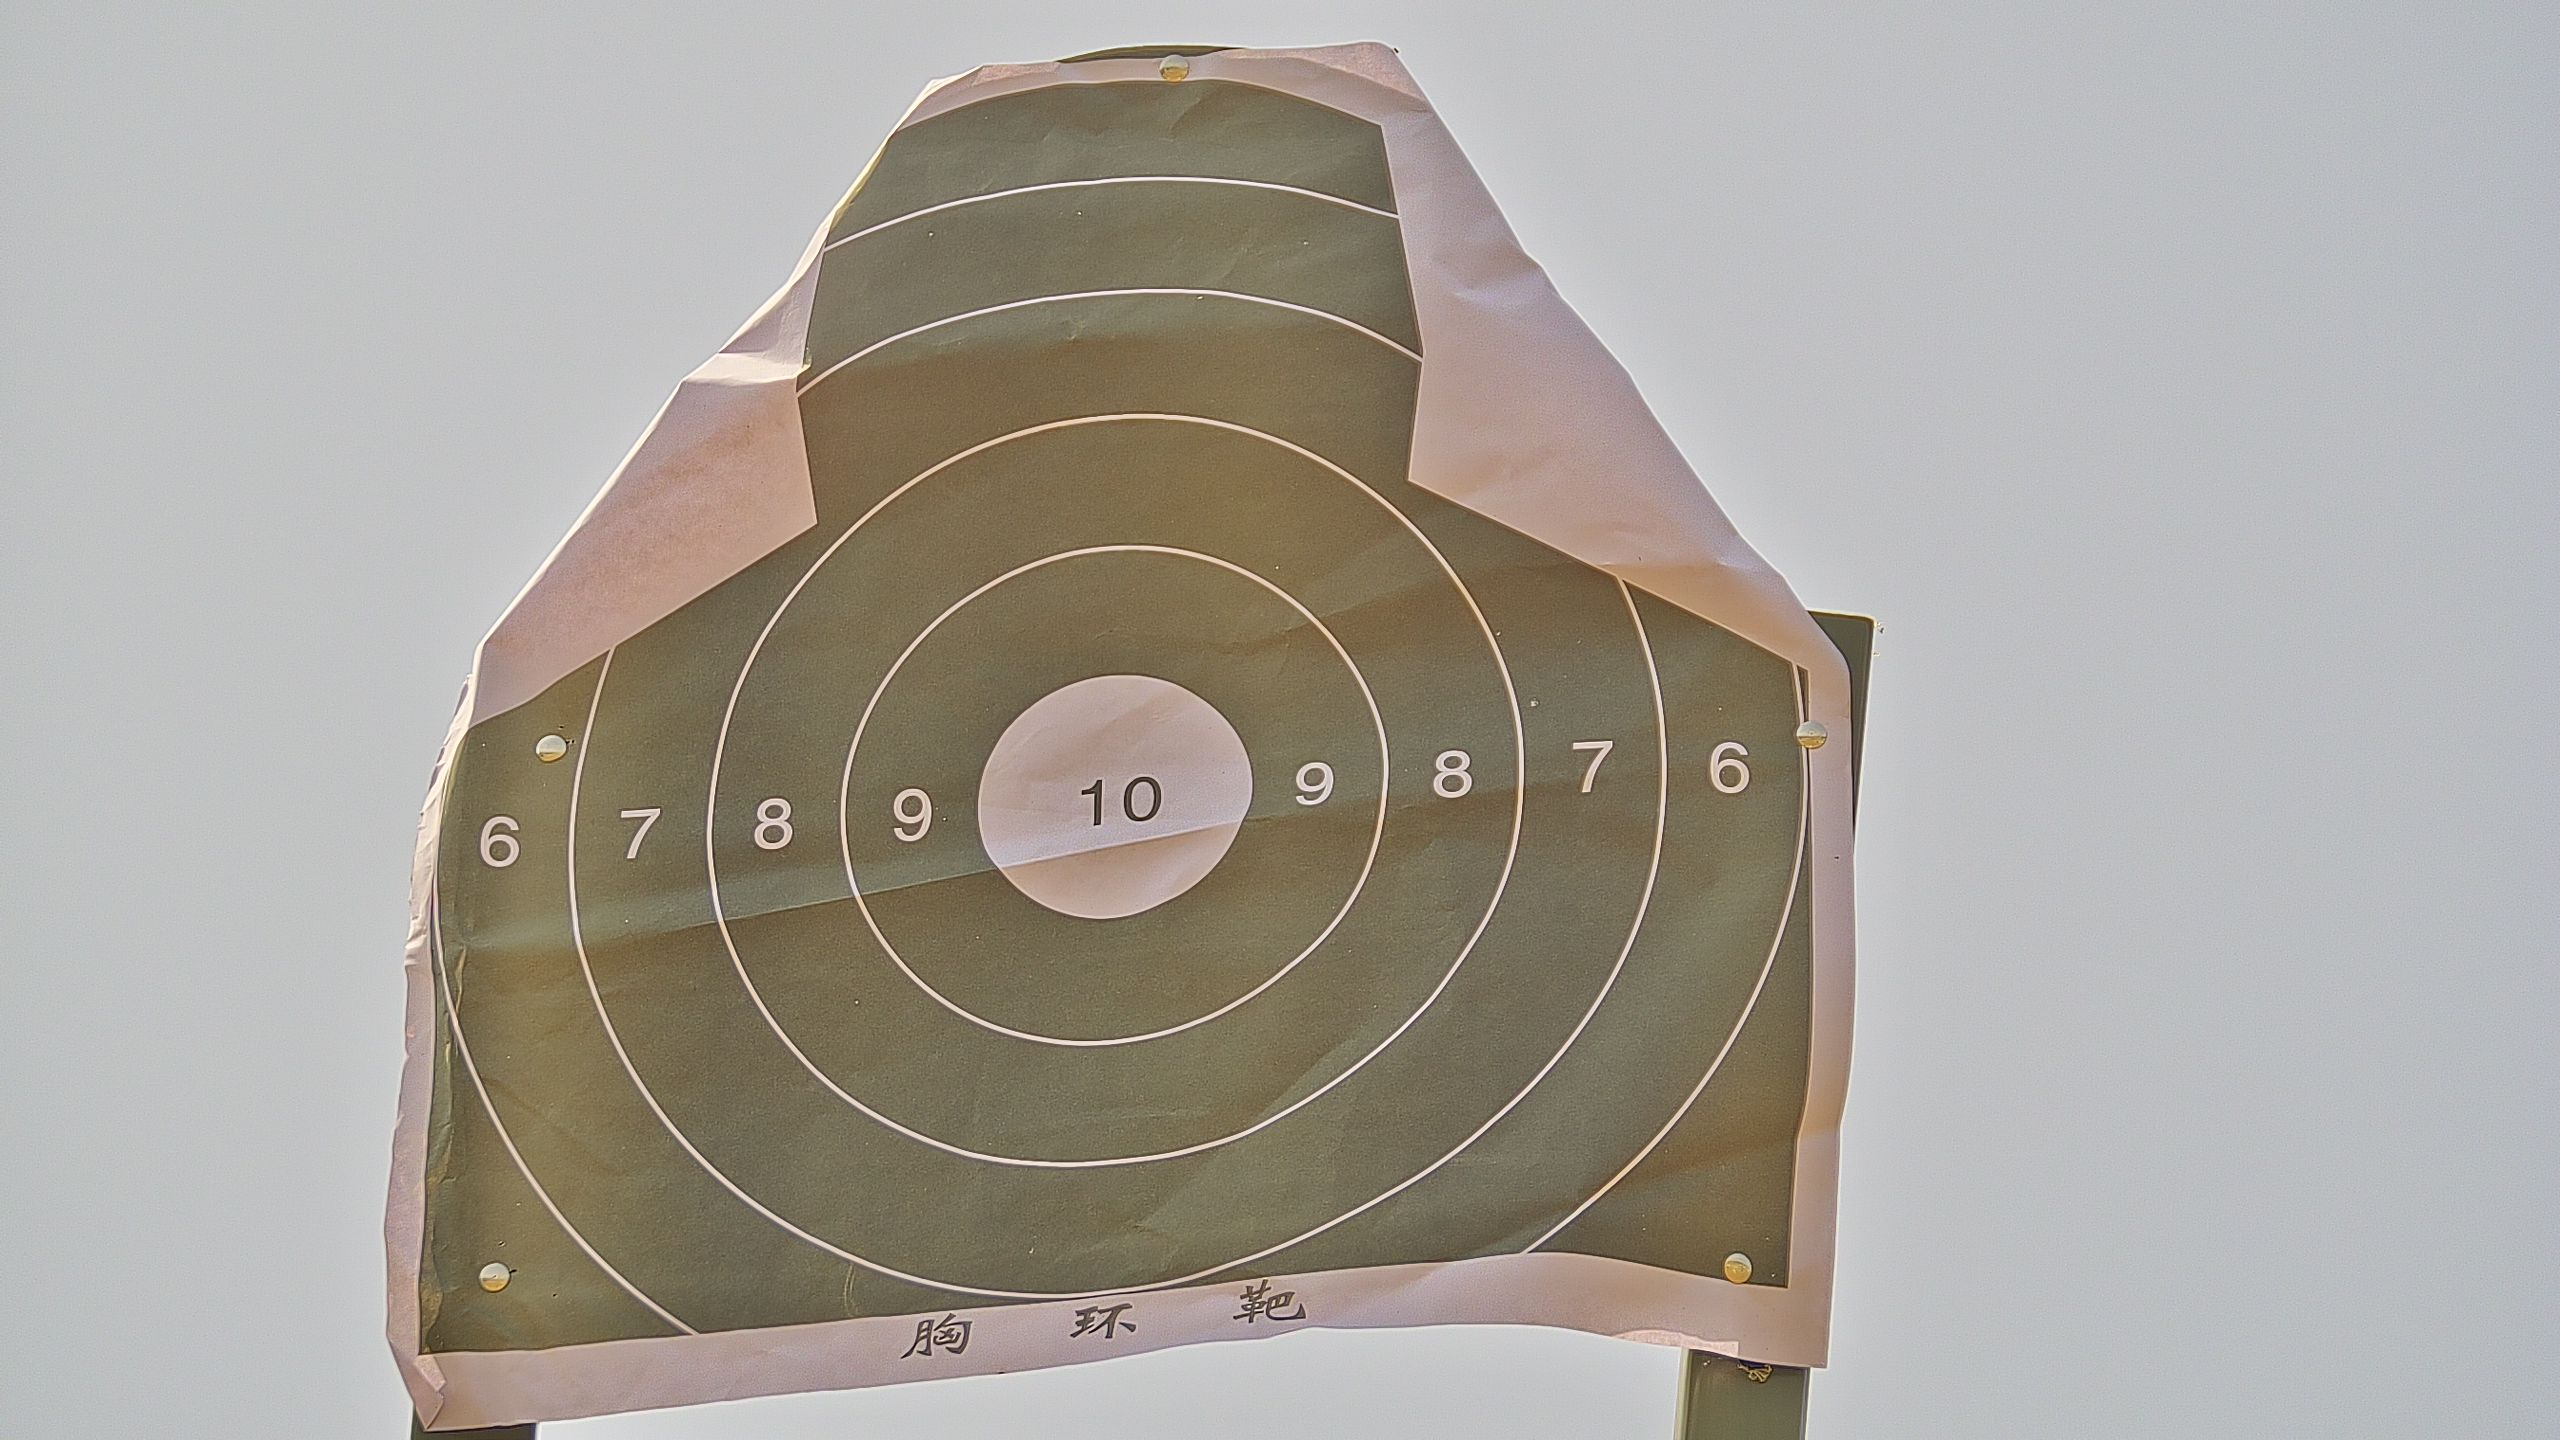kernel: (1109, 805, 1120, 807)
target: (408, 81, 1827, 1363)
ten: (976, 672, 1252, 920)
